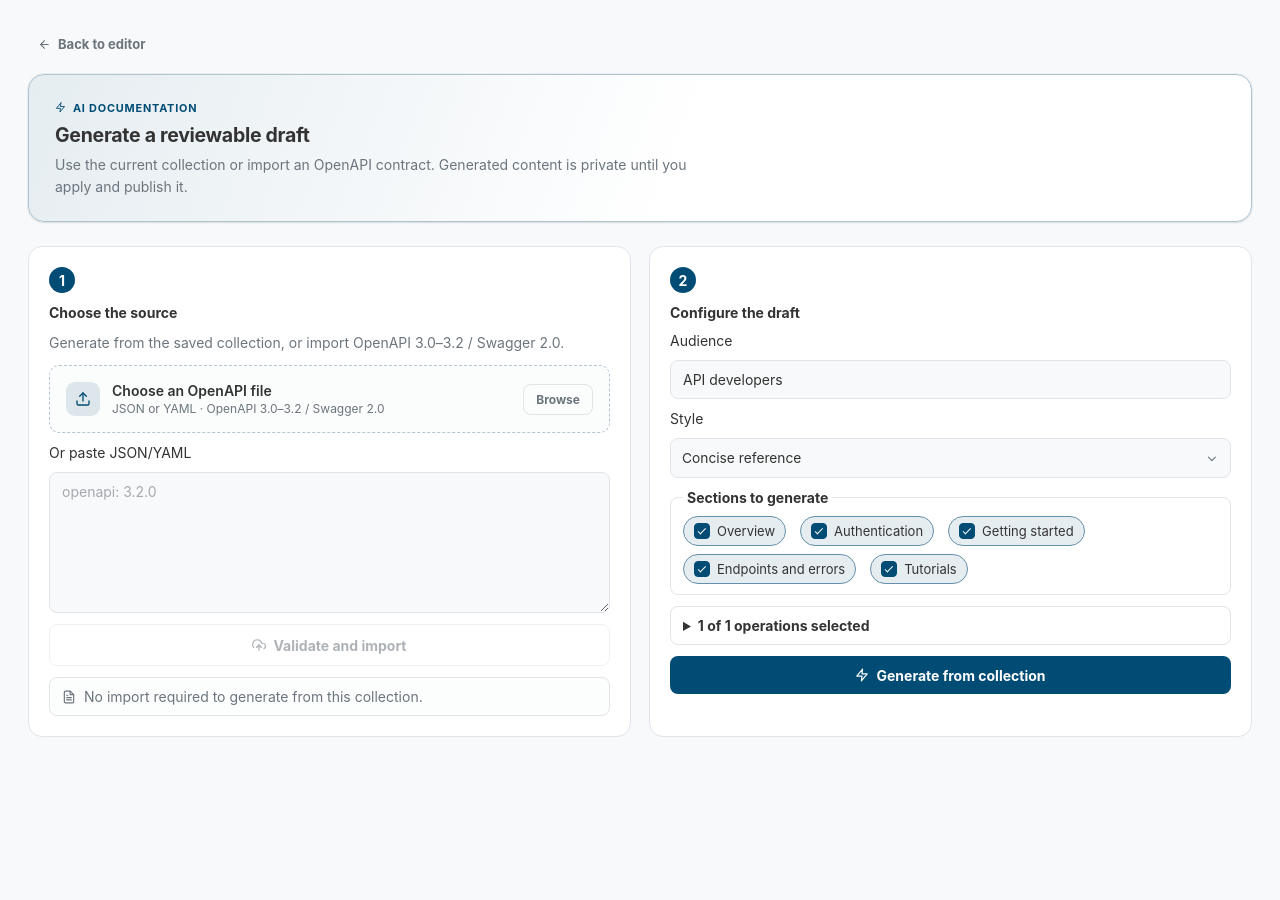
Test: DocumentationGeneratorPanel › generates a private draft and exposes section-level review controls
Click the button "Generate from collection" at (950, 675), box [670,656,1231,694]
(page scrolled)
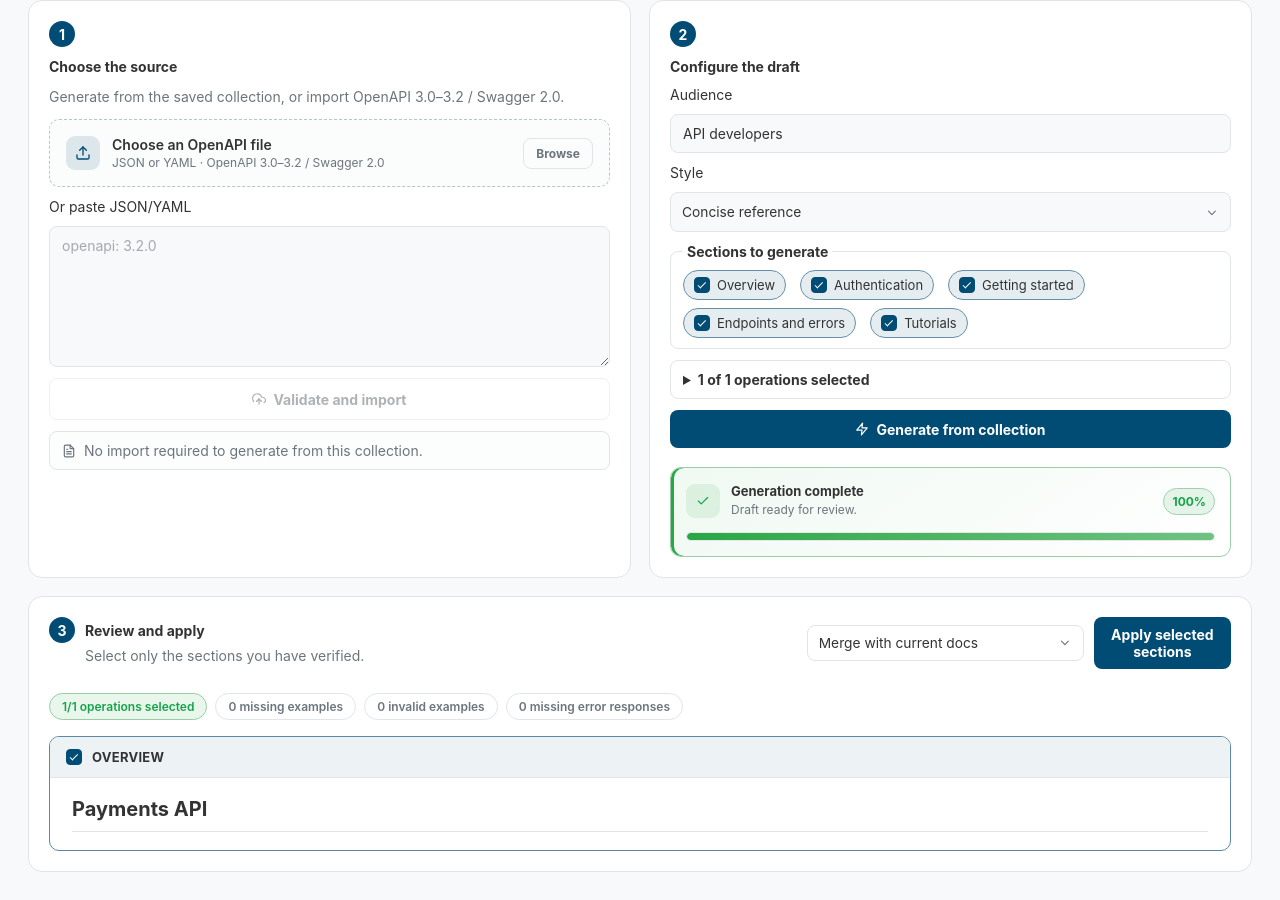
Now the heading "Payments API" is shown, box [72,796,1208,832]
Now the text "Draft ready for review." is shown, box [731,502,857,517]
Now the checkbox labelled "Overview" below "missing examples" is checked, box [66,749,82,765]
